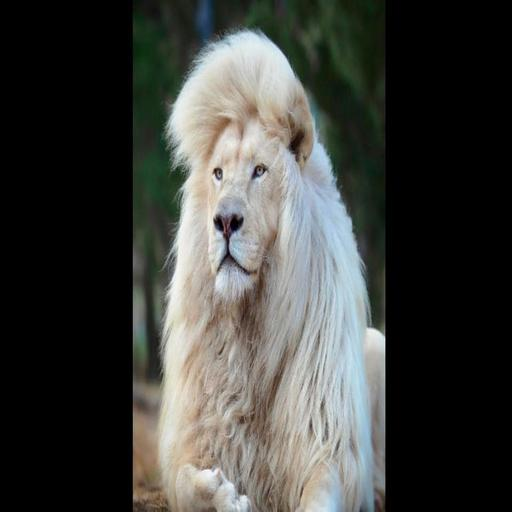Lion: (136, 17, 386, 510)
